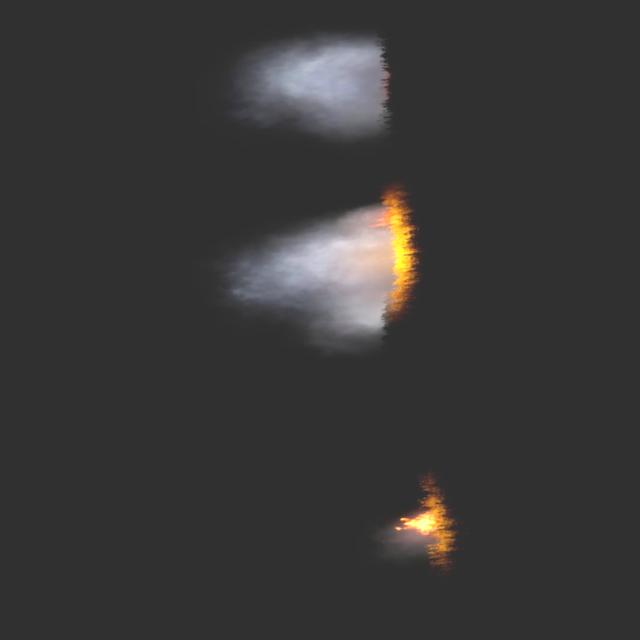fire: (366, 185, 424, 314), (392, 505, 438, 539)
smoke: (208, 196, 410, 354), (228, 24, 389, 148), (384, 514, 442, 556)
